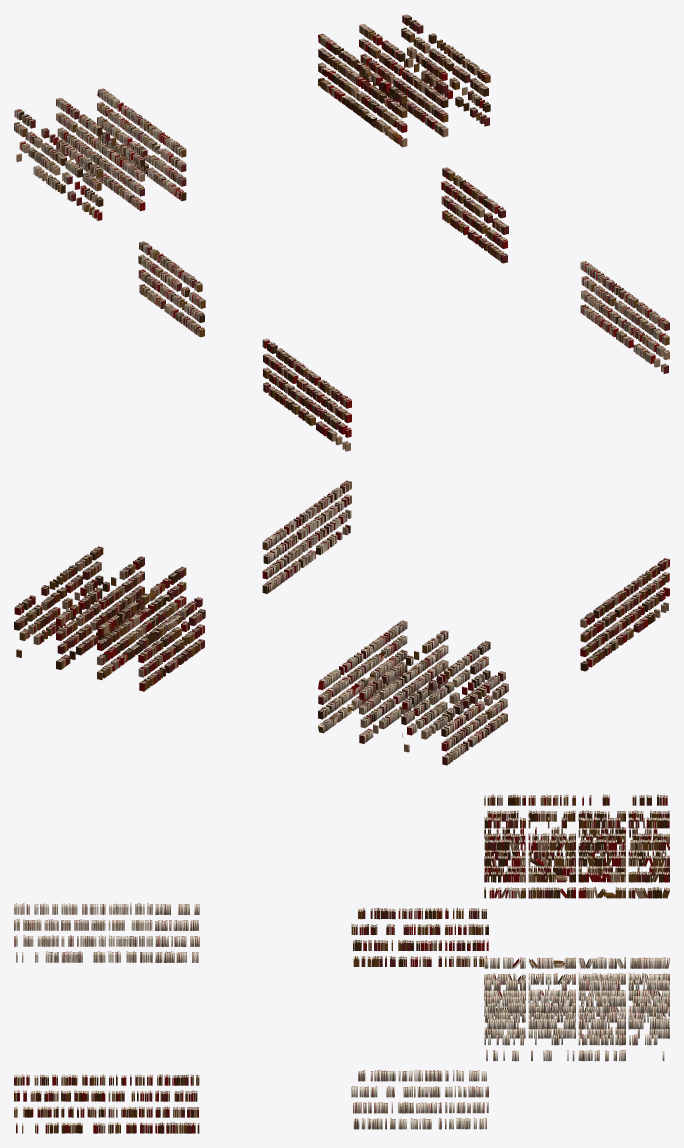
The model's file is books2.glb.
3 renders of one model, top to bottom at view 1: azimuth 30°, elevation 25°; view 2: azimuth 150°, elevation 25°; view 3: azimuth 270°, elevation 25°, orthographic. The views are drawn at different scales.
Parts seen in each view (by area): view 1: books16, books_nice_front19, books11, books9, books_side_3; view 2: books16, books_nice_front19, books11, books9, books_side_3; view 3: books16, books_nice_front19, books11, books_side_3, books9.
Part boxes in pixels (bbox=[...]): books16: bbox=[262, 261, 669, 451]; books_nice_front19: bbox=[97, 33, 407, 201]; books11: bbox=[56, 24, 448, 211]; books9: bbox=[14, 14, 490, 220]; books_side_3: bbox=[138, 167, 508, 337]; books16: bbox=[262, 480, 669, 671]; books_nice_front19: bbox=[97, 566, 407, 733]; books11: bbox=[56, 556, 448, 743]; books9: bbox=[14, 546, 490, 752]; books_side_3: bbox=[138, 597, 508, 765]; books16: bbox=[14, 903, 199, 1133]; books_nice_front19: bbox=[484, 839, 669, 1016]; books11: bbox=[484, 817, 669, 1038]; books_side_3: bbox=[351, 908, 488, 1129]; books9: bbox=[484, 794, 669, 1061].
Size of the model in its own units: 26 by 8.49 by 34.22.
Materials: 1 (1 with a texture image).
